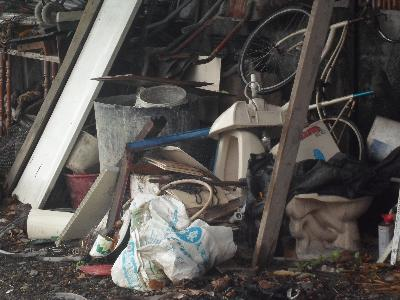bottle: (85, 234, 116, 262)
plastic_bag: (107, 195, 242, 292)
toilet: (284, 190, 375, 262), (208, 127, 269, 216)
